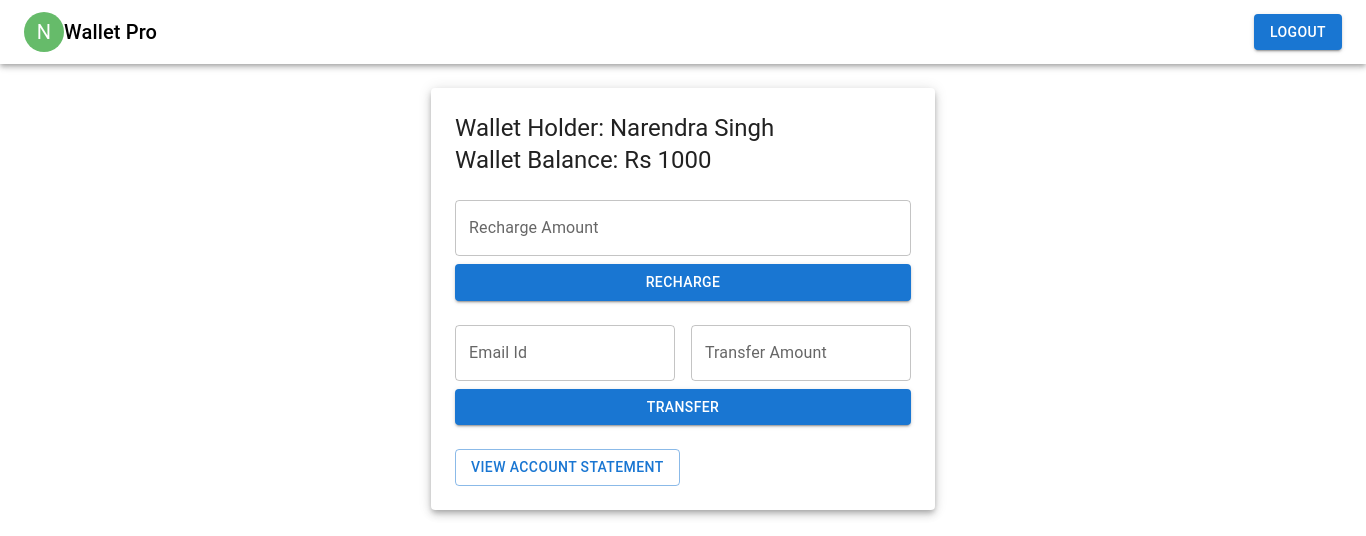
Test: Wallet Component › handles wallet recharge correctly
Type "50" into the number field labelled "Recharge Amount".
click(683, 228); type("50")  # box [455, 200, 911, 256]
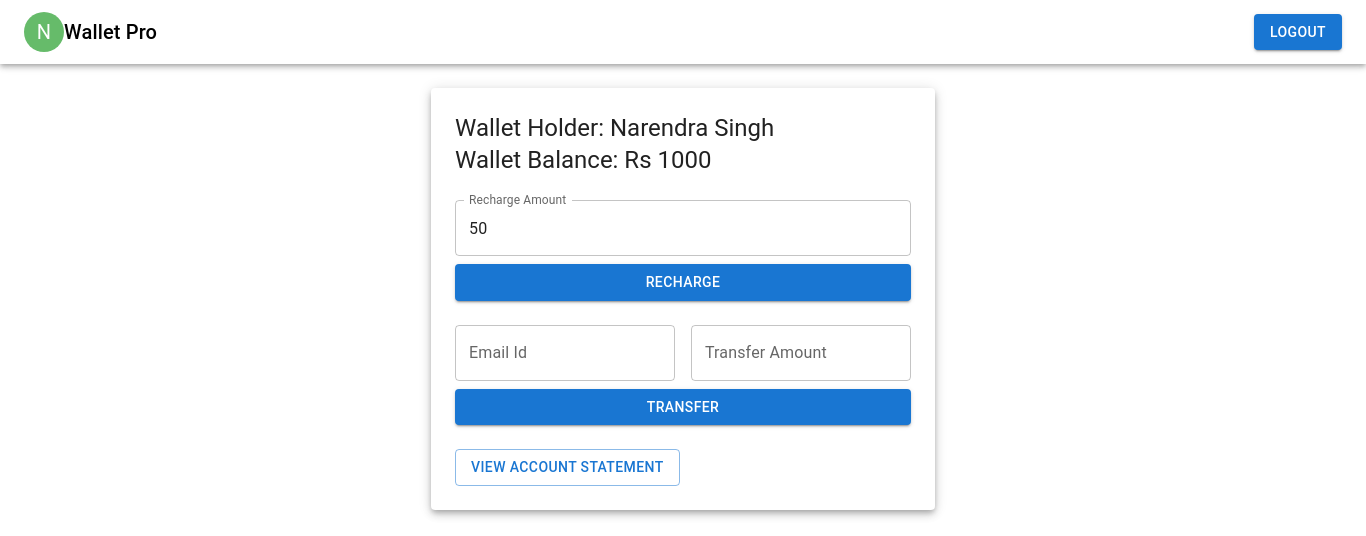
Click the button "Recharge".
click(683, 282)  # box [455, 264, 911, 300]
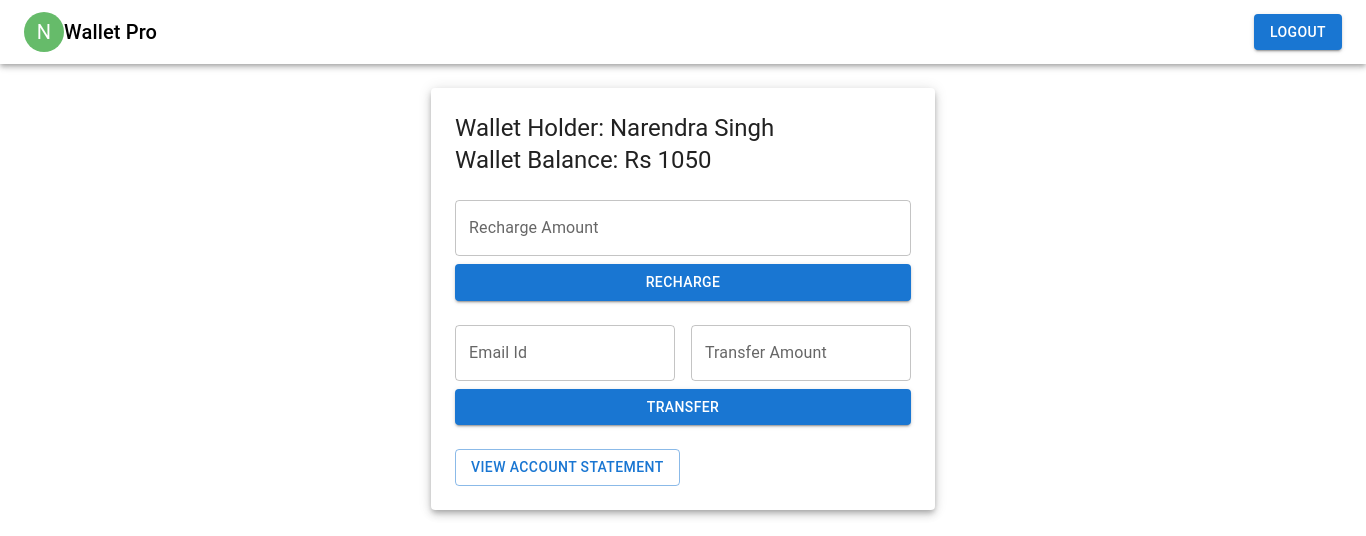
Expected: the heading "Wallet Holder: Narendra Singh" is shown, [455, 114, 774, 142]
Now the heading "Wallet Balance: Rs 1050" is shown, box [455, 146, 712, 174]
